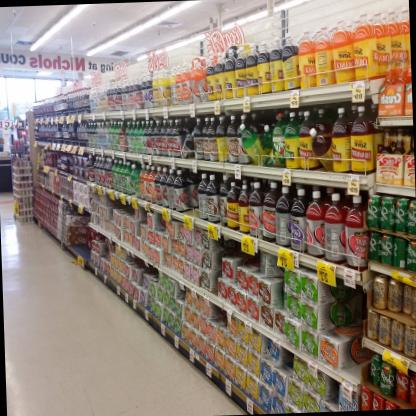empty_space: (69, 244, 91, 262)
